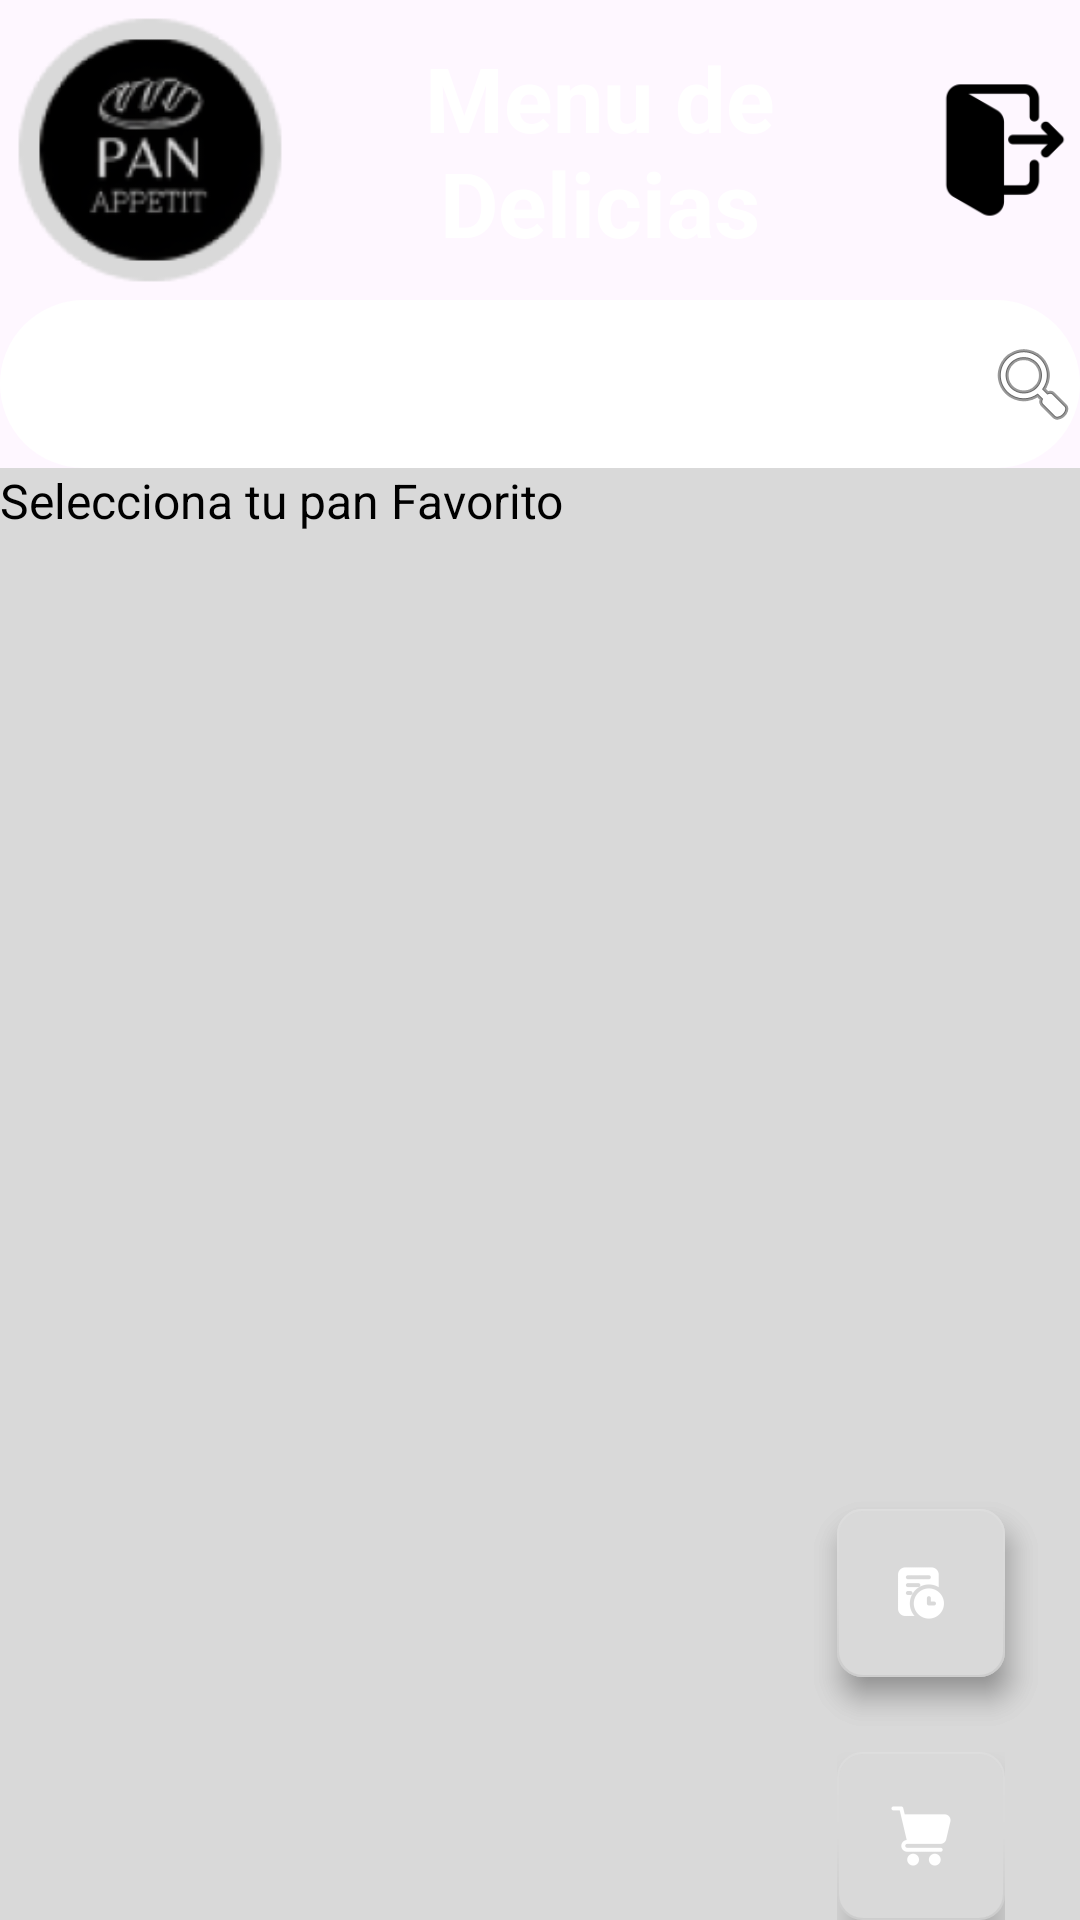

Icons on this 1080*1920 Android screen, each with the point to tap as (x,y):
buy: (926,1863)
